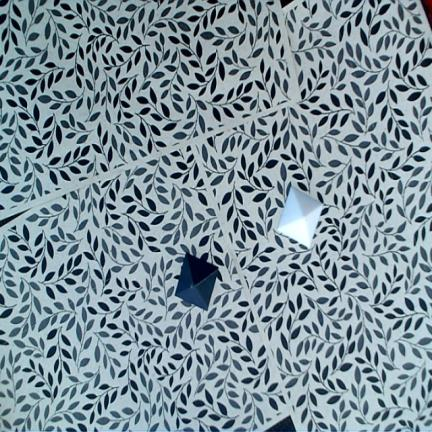Piramide: (277, 186, 324, 248), (175, 252, 219, 311)
